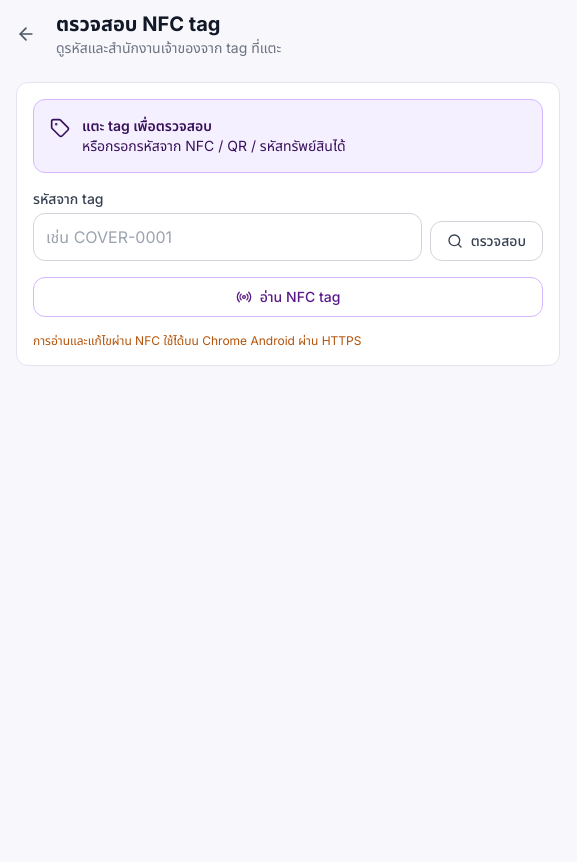
Test: CheckTagPage — inspect and edit NFC tag (Flow 5) › shows asset code, nfc id, owner/current office and status for a found tag
In the field labelled "รหัสจาก tag": (227, 237) [33,213,422,261], type "TAG-OLD"
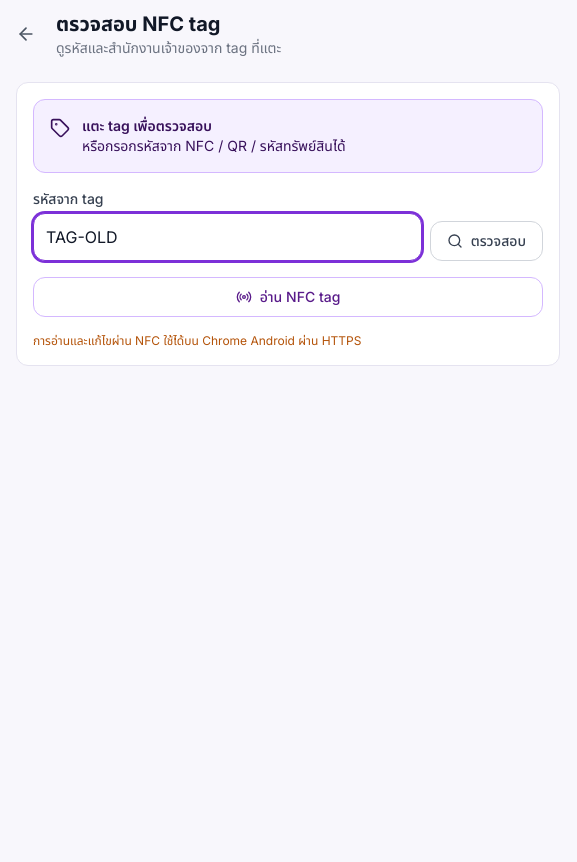
Click the button "ตรวจสอบ": (486, 241) [430,221,543,261]
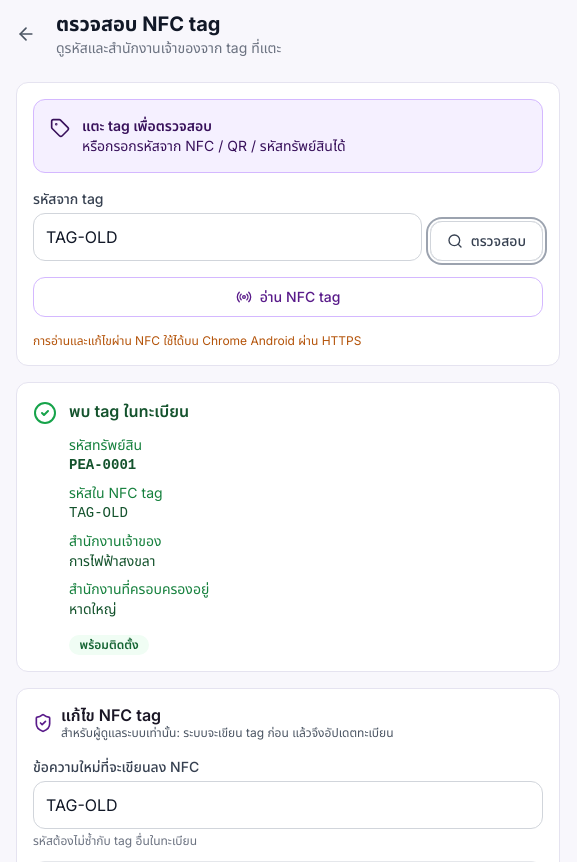
expect the text "พบ tag ในทะเบียน" is shown: met, box [69,399,209,423]
expect the text "PEA-0001" is shown: met, box [69,457,136,473]
expect the text "TAG-OLD" is shown: met, box [69,505,128,521]
